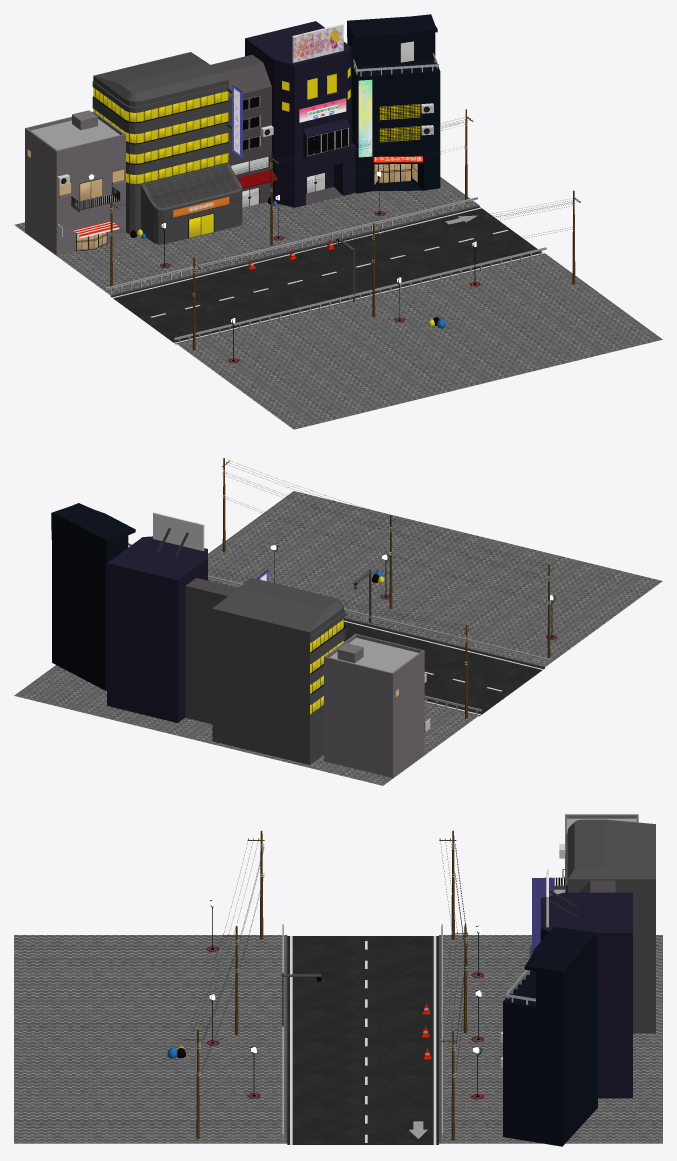
File: neon_city.glb
3 views of the same model, one above another, from view 1: azimuth 30°, elevation 25°; view 2: azimuth 150°, elevation 25°; view 3: azimuth 270°, elevation 25° (orthographic). The views are drawn at different scales.
Visible parts, largest first — view 1: Plane_77, Build 2_3, Cube.017_24, Cube.033_39, Cube.008_15, Cube.001_9, Metal Thingy_72, Metal Thingy.001_73, Plane.001_78, Cube.011_18, Cube.026_33, Cube.004_12 (+2 smaller); view 2: Plane_77, Build 2_3, Cube.008_15, Cube.033_39, Cube.017_24, Cube.001_9, Plane.001_78, Metal Thingy.001_73; view 3: Plane_77, Cube.017_24, Build 2_3, Cube.008_15, Cube.004_12, Cube.033_39.
Boxes of the visible parts, x1=… form: Plane_77: x1=14, y1=177, x2=662, y2=429; Build 2_3: x1=92, y1=52, x2=242, y2=244; Cube.017_24: x1=347, y1=14, x2=440, y2=193; Cube.033_39: x1=25, y1=110, x2=125, y2=255; Cube.008_15: x1=245, y1=21, x2=355, y2=207; Cube.001_9: x1=211, y1=54, x2=277, y2=203; Metal Thingy_72: x1=105, y1=197, x2=477, y2=294; Metal Thingy.001_73: x1=174, y1=247, x2=546, y2=344; Plane.001_78: x1=292, y1=24, x2=343, y2=62; Cube.011_18: x1=303, y1=118, x2=349, y2=158; Cube.026_33: x1=358, y1=79, x2=372, y2=157; Cube.004_12: x1=227, y1=84, x2=242, y2=158; Plane_77: x1=14, y1=491, x2=662, y2=785; Build 2_3: x1=212, y1=578, x2=345, y2=764; Cube.008_15: x1=107, y1=536, x2=207, y2=722; Cube.033_39: x1=324, y1=634, x2=424, y2=777; Cube.017_24: x1=51, y1=503, x2=135, y2=690; Cube.001_9: x1=185, y1=578, x2=237, y2=723; Plane.001_78: x1=153, y1=512, x2=204, y2=556; Metal Thingy.001_73: x1=208, y1=575, x2=550, y2=665; Plane_77: x1=14, y1=935, x2=662, y2=1144; Cube.017_24: x1=503, y1=927, x2=597, y2=1146; Build 2_3: x1=529, y1=819, x2=655, y2=1033; Cube.008_15: x1=540, y1=892, x2=632, y2=1098; Cube.004_12: x1=532, y1=878, x2=565, y2=953; Cube.033_39: x1=554, y1=814, x2=638, y2=894.
Bounding box in the file's own units: 50.82 × 21.83 × 65.18.
47 materials, 20 textured.
